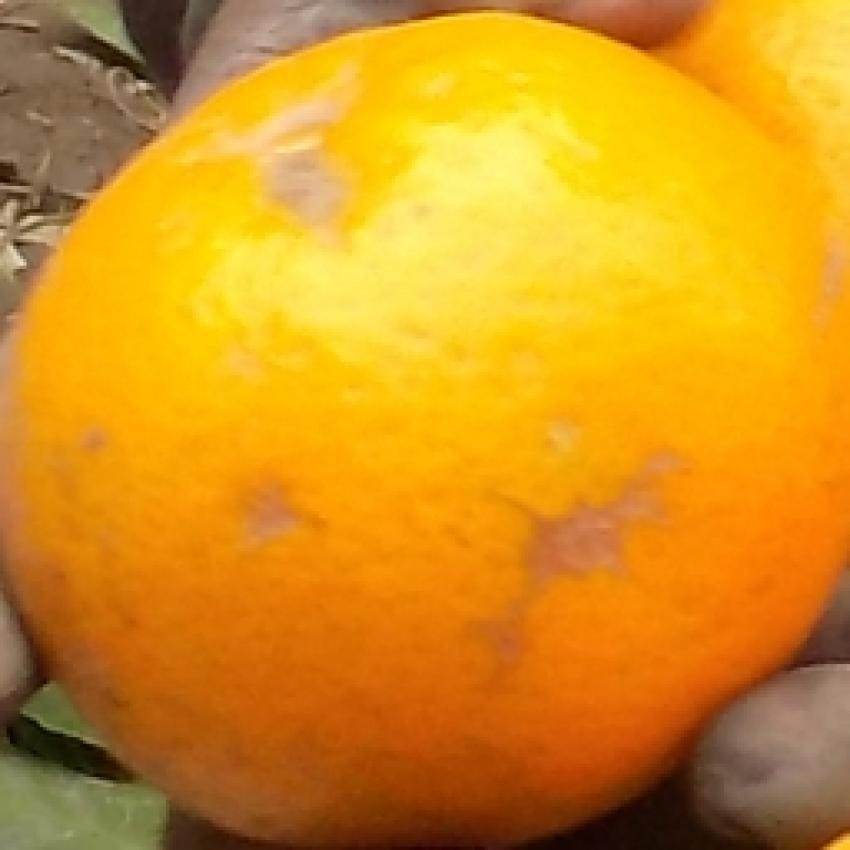Mal estado: (0, 14, 847, 847)
